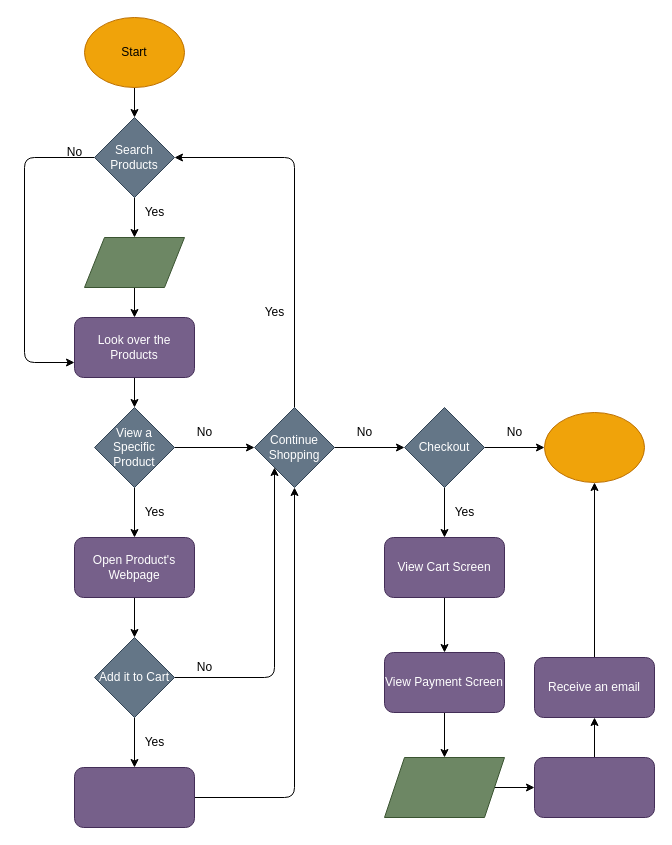
Some shapes in this 672 by 845 pixel diagram are drawn without their labels. The shapes that lost their labels are listed below. From the top down, each one's centre as x and y in pixels, then its label:
At pixel 134 262: "Search Input".
At pixel 594 447: "End".
At pixel 134 797: "Recieve Added to Cart Confirmation".
At pixel 444 787: "Payment Infomation".
At pixel 594 787: "Order Confirmation Screen".
